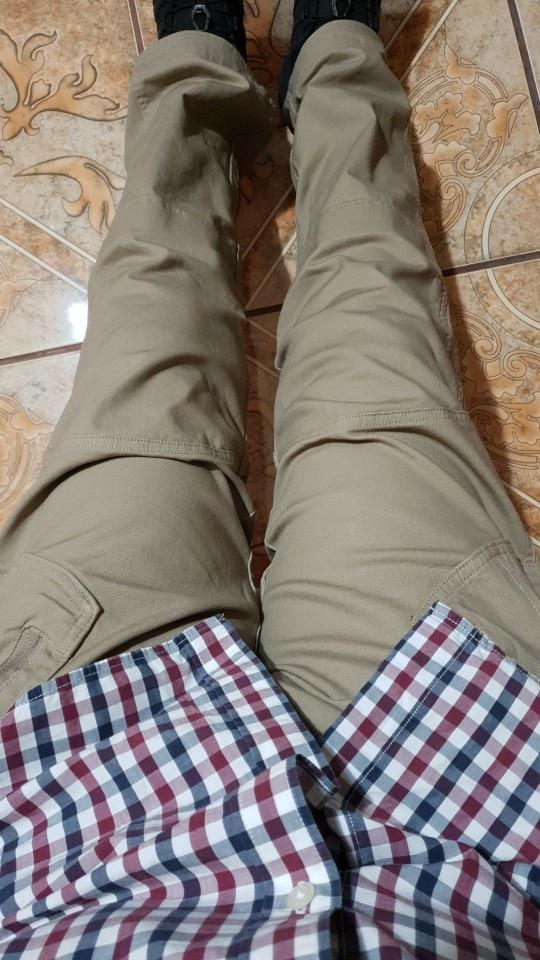pants: (1, 32, 540, 714)
